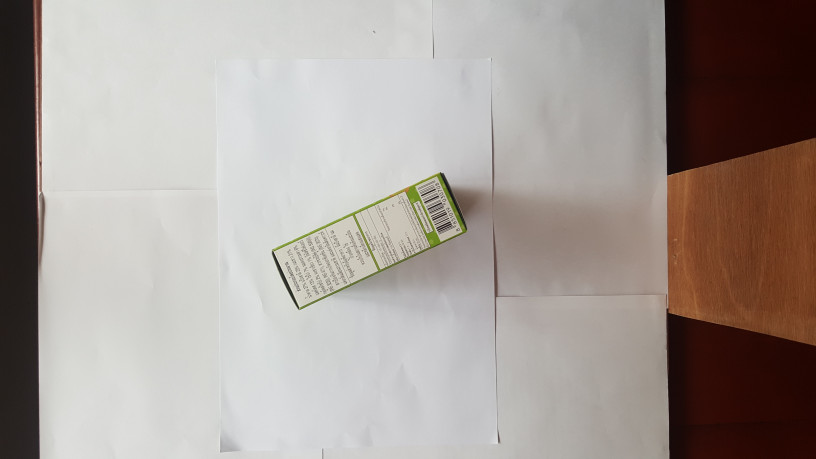collon-matcha: (270, 170, 470, 312)
